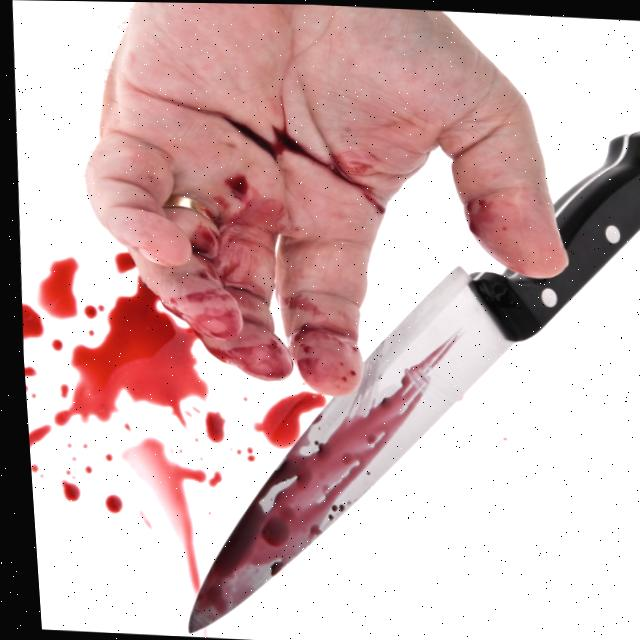knife: (145, 105, 640, 640)
